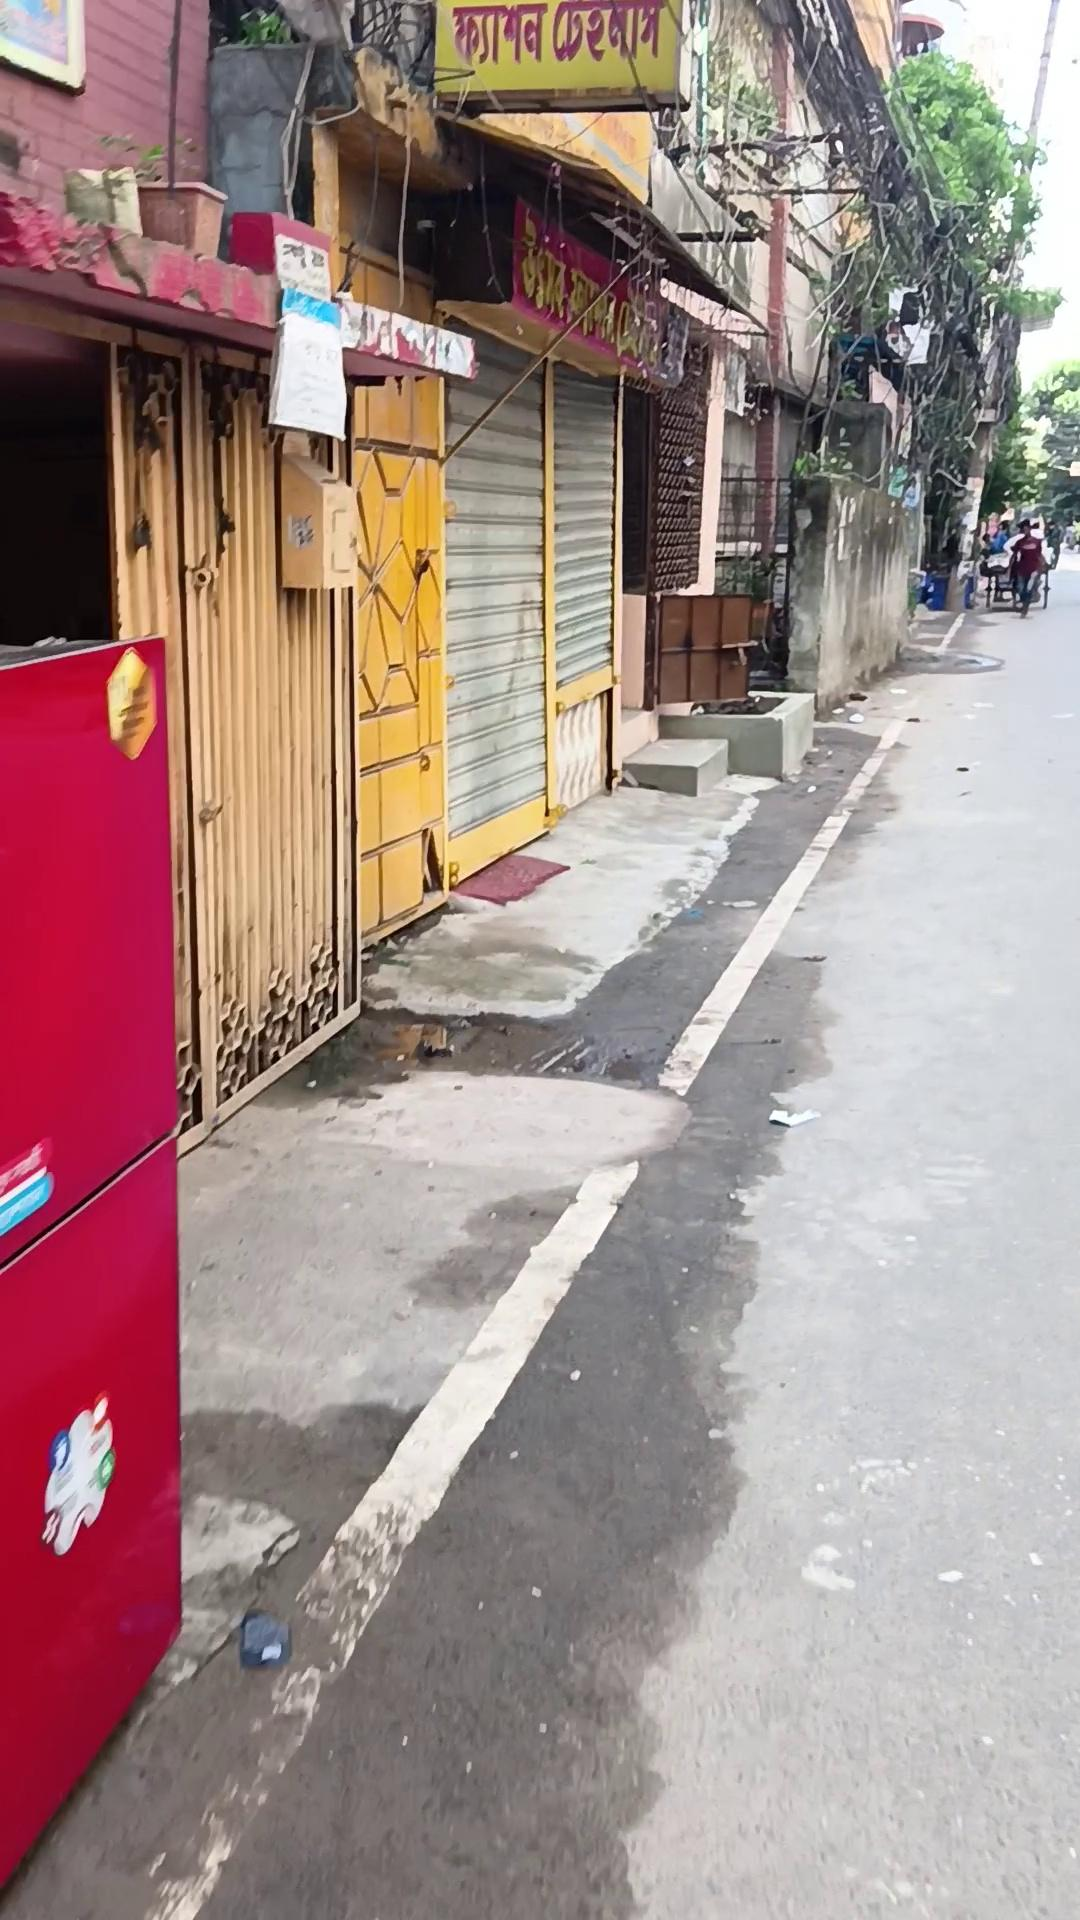Broken-road: (616, 675, 839, 861)
Crosswalk: (0, 633, 182, 1892), (979, 551, 1017, 608)
Fallen-tree: (116, 125, 250, 257)
Fence: (976, 544, 1051, 613)
Light-pole: (812, 44, 1065, 604)
Obstacle: (346, 371, 451, 951), (784, 470, 912, 716)
